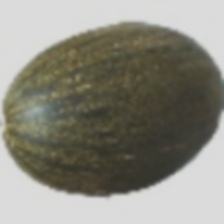honeydew: (32, 24, 168, 211)
